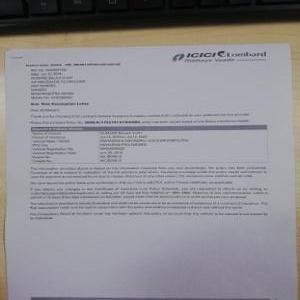image: (169, 48, 270, 68)
text: (26, 61, 253, 126), (28, 164, 272, 219), (29, 132, 268, 164)
